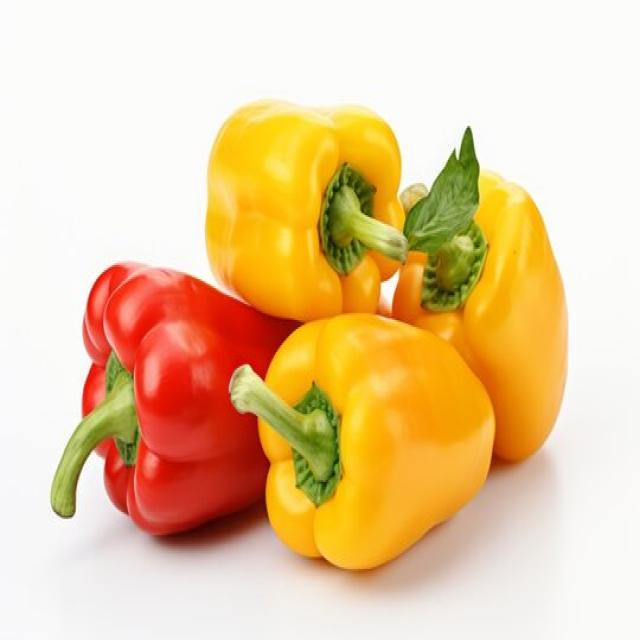Bell Pepper: (228, 311, 496, 571), (50, 259, 297, 537), (390, 125, 569, 462), (204, 96, 408, 322)
